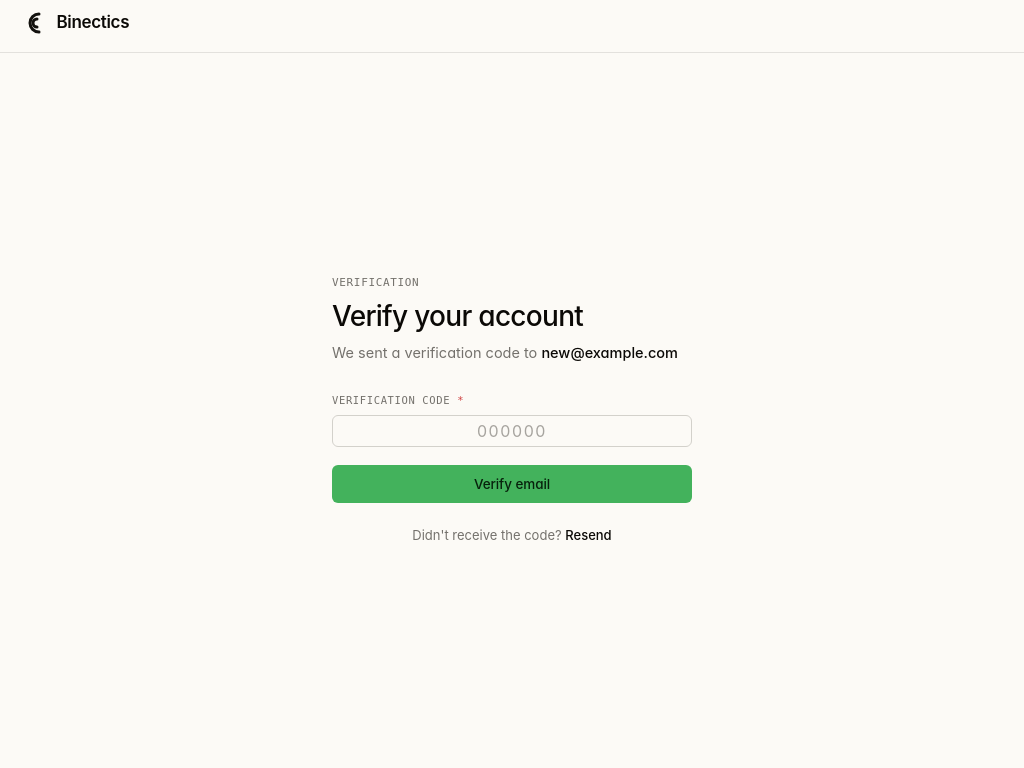
verification page resend › says a set-password link was emailed when the account was created by a gym
What coordinates should you click on to do the following:
click the button "Resend"
I would click on:
 (588, 536)
Its box is x1=565 y1=526 x2=612 y2=545.
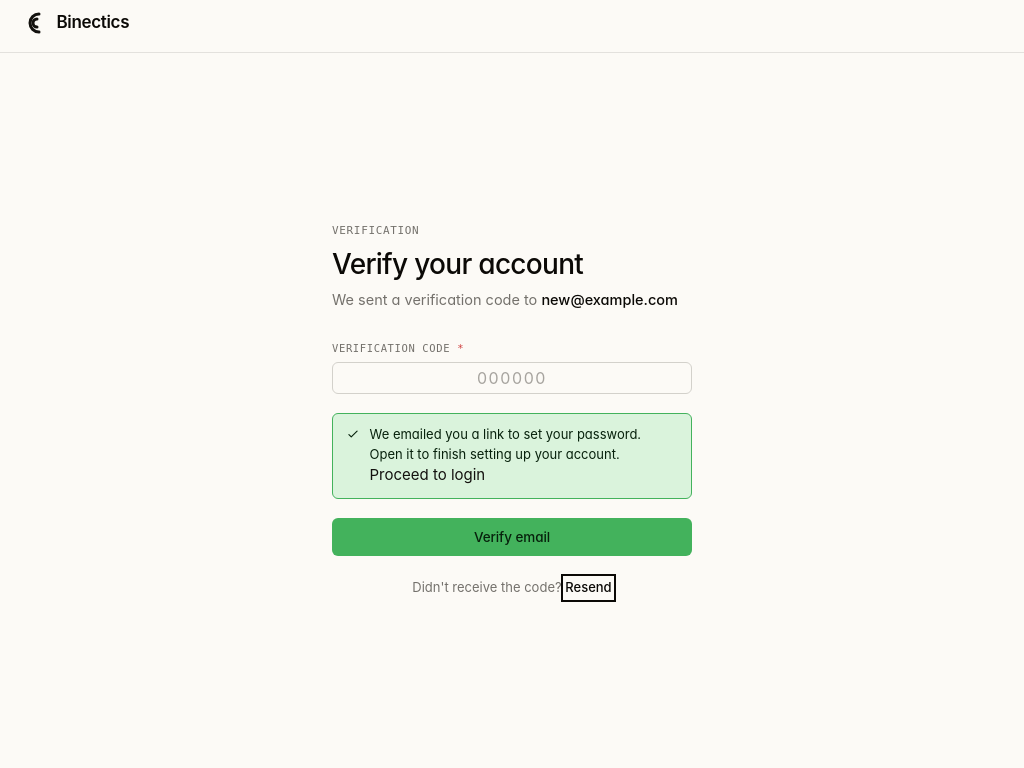
Now the text "emailed you a link to set your password" is shown, box x1=370 y1=426 x2=641 y2=462
